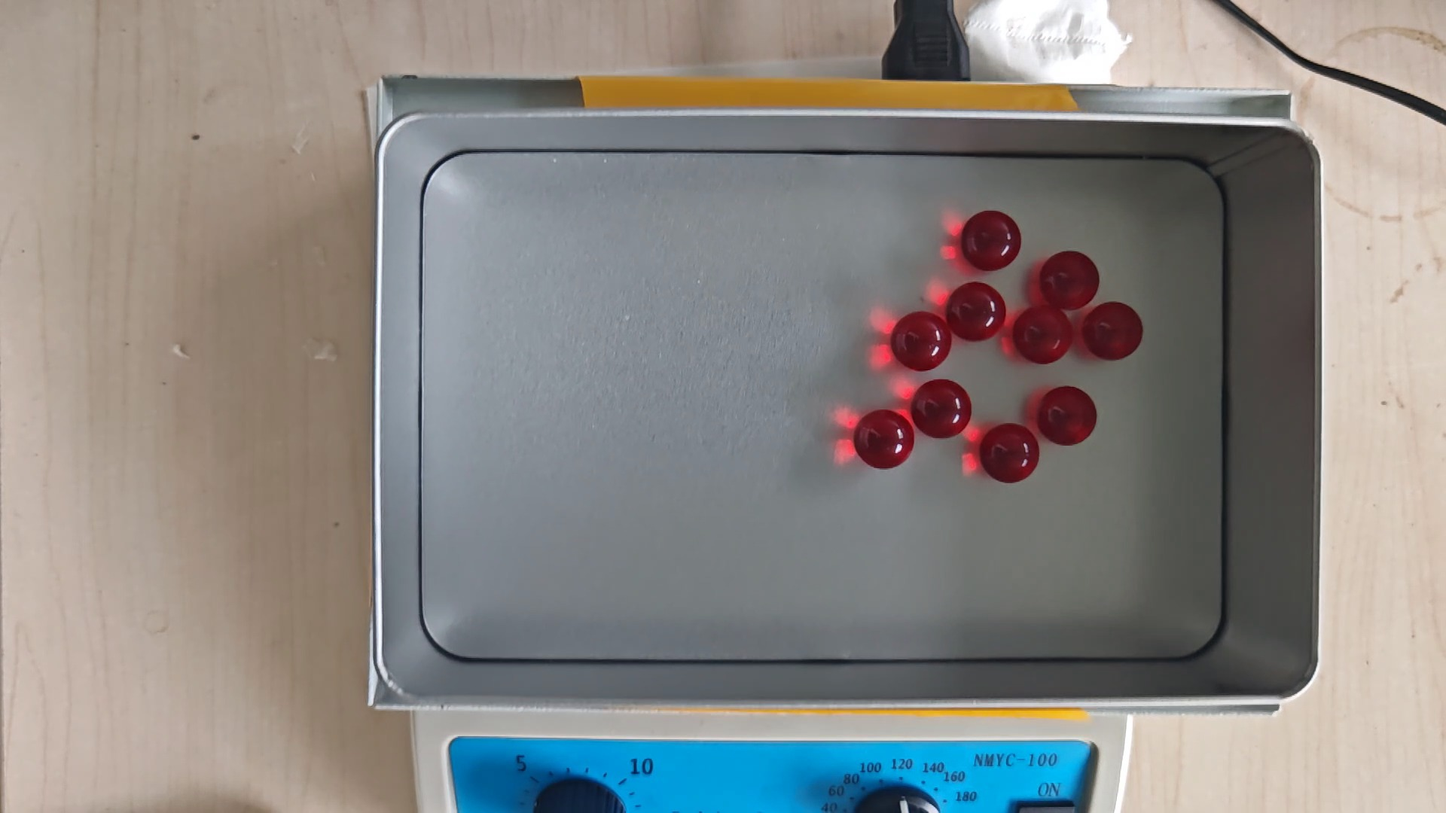ball: (854, 408, 914, 470), (947, 282, 1007, 343), (980, 423, 1040, 484), (962, 209, 1021, 271), (892, 311, 951, 372), (1038, 385, 1097, 446), (1040, 250, 1100, 309), (912, 379, 972, 438), (1083, 302, 1142, 361), (1014, 304, 1072, 364)
container: (420, 152, 1224, 661)
